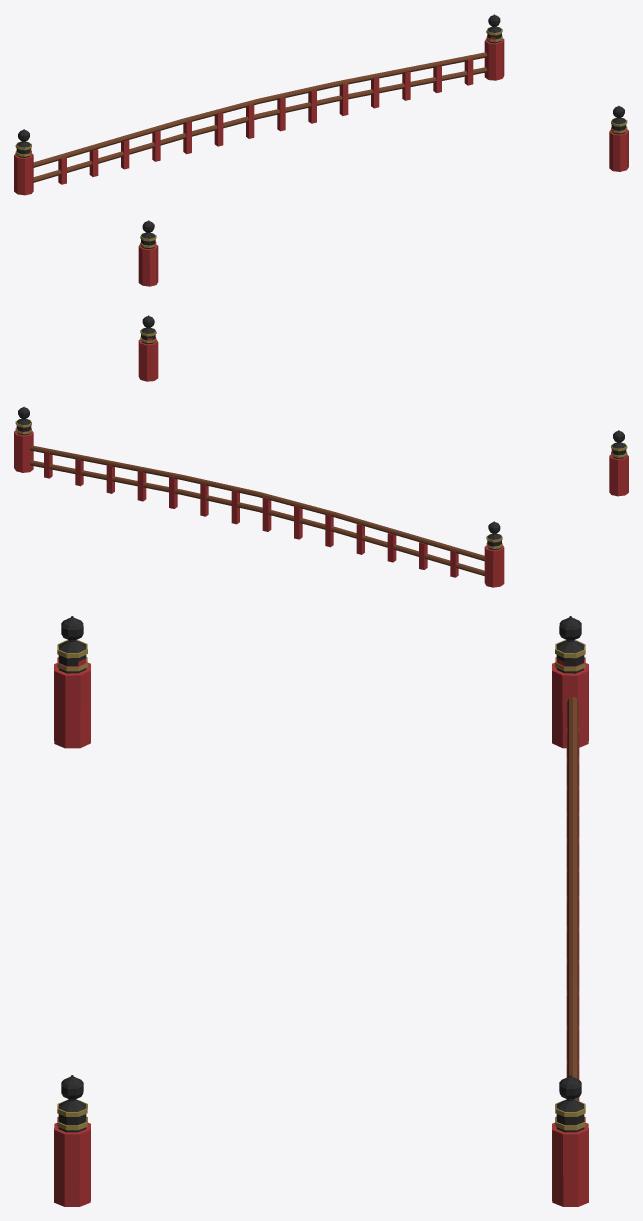
File: Bridge-railings.fbx
3 renders of one model, top to bottom at view 1: azimuth 30°, elevation 25°; view 2: azimuth 150°, elevation 25°; view 3: azimuth 270°, elevation 25°, orthographic. The views are drawn at different scales.
Visible parts, largest first — view 1: Bridge.003; view 2: Bridge.003; view 3: Bridge.003.
Part boxes in pixels (<box>): Bridge.003: <box>14,14,628,286</box>; Bridge.003: <box>14,315,628,587</box>; Bridge.003: <box>54,616,588,1206</box>.
Bounding box in the file's own units: 1872 × 234 × 891.
